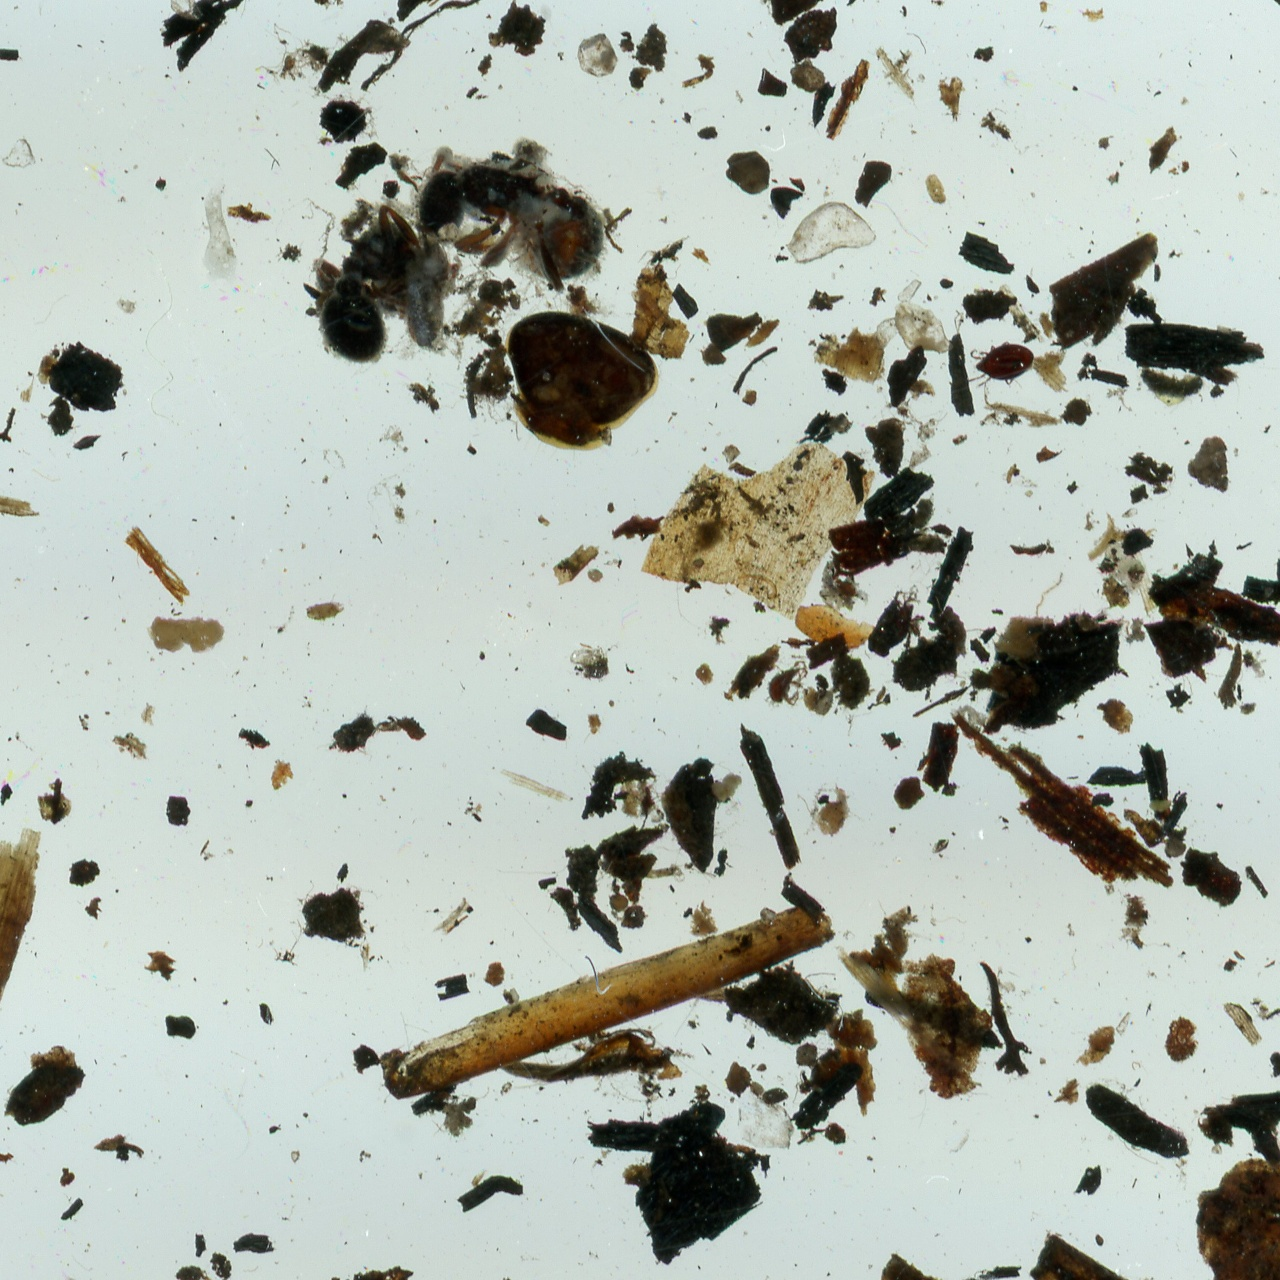arthropod: (372, 135, 622, 308), (311, 197, 423, 372), (403, 231, 450, 350), (968, 341, 1035, 389), (763, 658, 810, 712)
